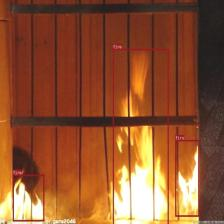fire: (113, 48, 168, 224), (175, 140, 199, 216), (12, 174, 44, 222)
